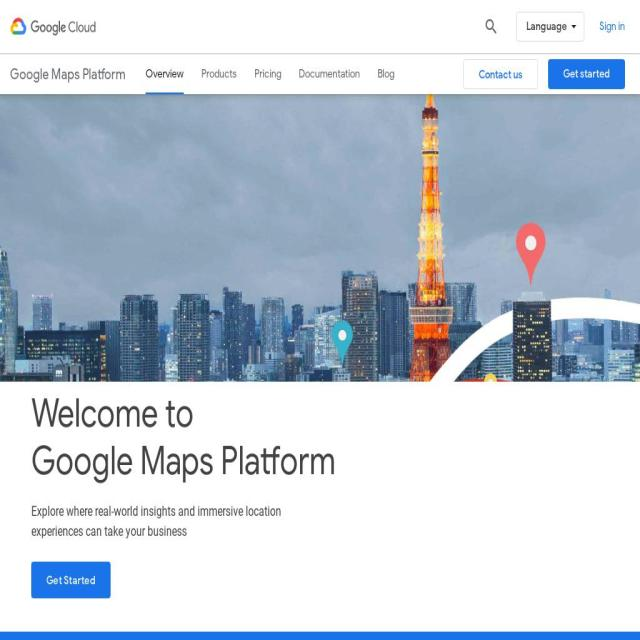button: (31, 562, 111, 599), (10, 13, 97, 40), (10, 64, 126, 84), (548, 59, 625, 89), (463, 59, 538, 89), (516, 12, 584, 42), (594, 12, 630, 42)
field: (476, 12, 506, 42)
heading: (31, 390, 194, 486), (31, 436, 336, 486)
image: (10, 13, 97, 40)
link: (299, 54, 360, 94), (146, 54, 183, 94), (201, 54, 237, 94), (254, 54, 282, 94), (378, 54, 394, 94)
text: (31, 502, 289, 542)
